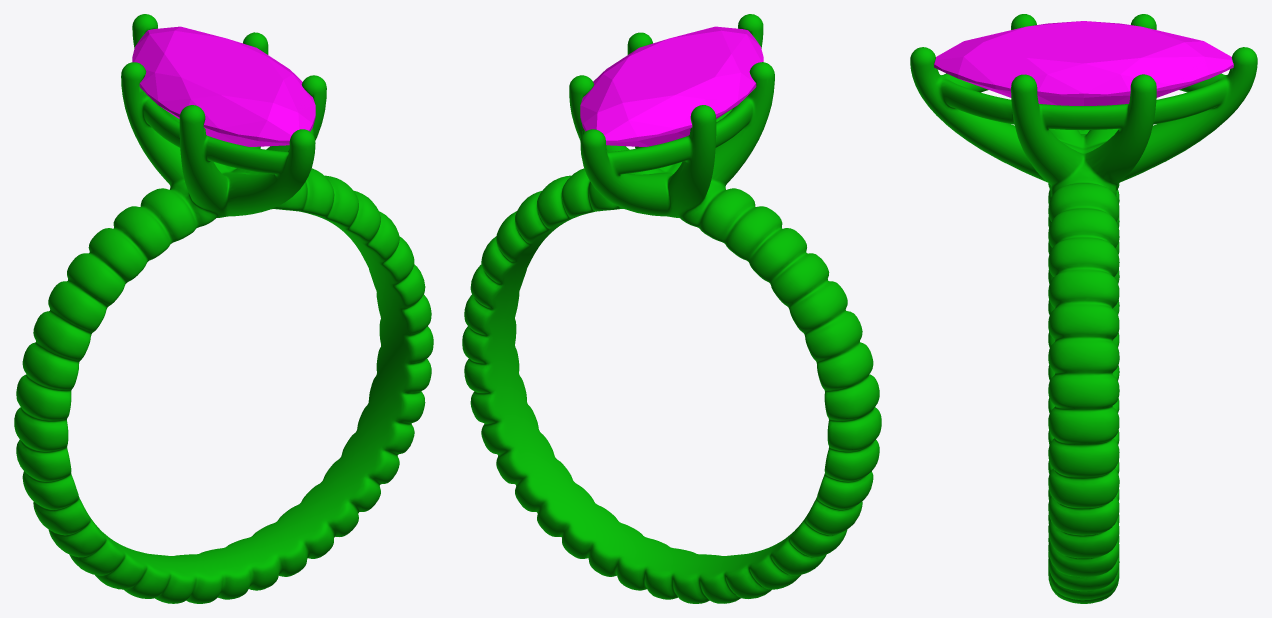
The model's file is BE1D2221_MQ_200ct_RENDER.glb.
3 renders of one model, left to right at view 1: azimuth 30°, elevation 25°; view 2: azimuth 150°, elevation 25°; view 3: azimuth 270°, elevation 25°, orthographic. The views are drawn at different scales.
Visible parts, largest first — view 1: Metal 01, CS_Diamond_Marquise; view 2: Metal 01, CS_Diamond_Marquise; view 3: Metal 01, CS_Diamond_Marquise.
Part boxes in pixels (box(x1,y1,x2,y2)): Metal 01: box(14, 14, 433, 603); CS_Diamond_Marquise: box(132, 26, 315, 146); Metal 01: box(462, 14, 881, 603); CS_Diamond_Marquise: box(580, 26, 763, 146); Metal 01: box(910, 14, 1257, 603); CS_Diamond_Marquise: box(934, 21, 1233, 105).
Bounding box in the file's own units: 20.1 × 24.97 × 14.59.
